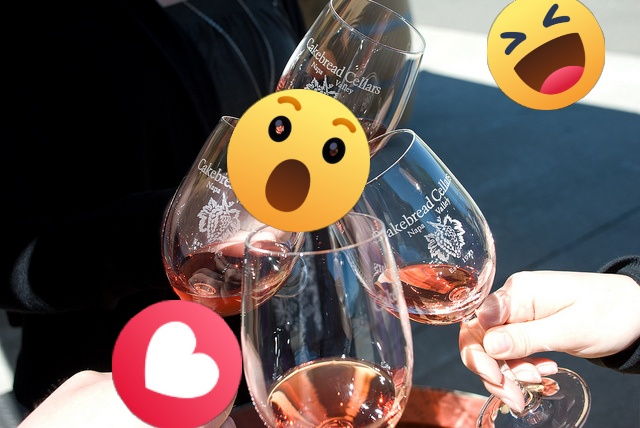haha: (487, 0, 605, 110)
love: (112, 300, 242, 428)
wow: (227, 89, 370, 232)
